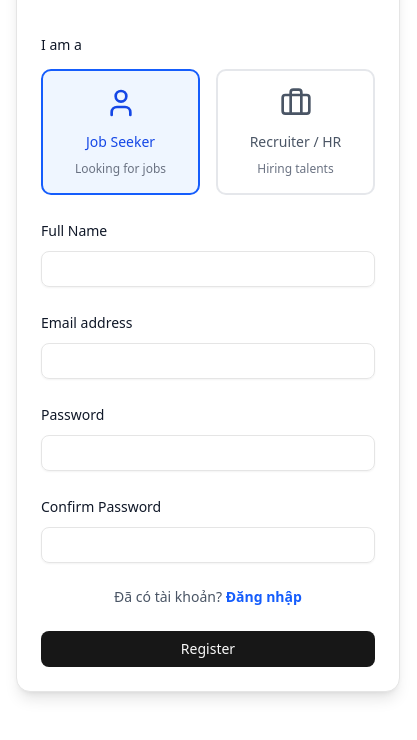
Test: RegisterForm › Form Validation › shows validation error for short full name from server
The image size is (417, 740).
(page scrolled)
Click the button "Register". click: (208, 649)
box: x1=41 y1=631 x2=375 y2=667
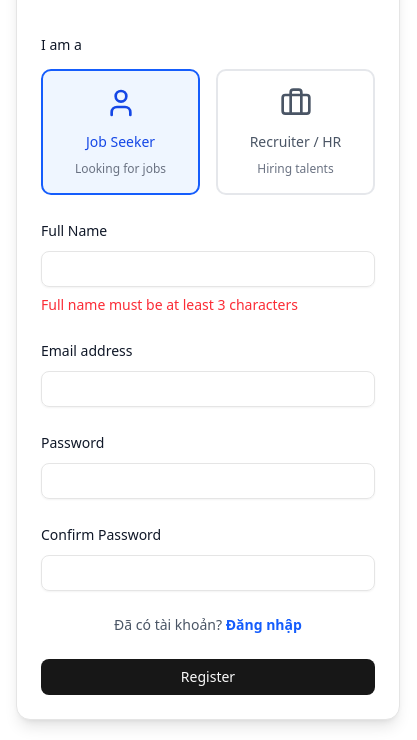
Result: the text "Full name must be at least 3 characters" is shown at x1=41 y1=295 x2=298 y2=314
